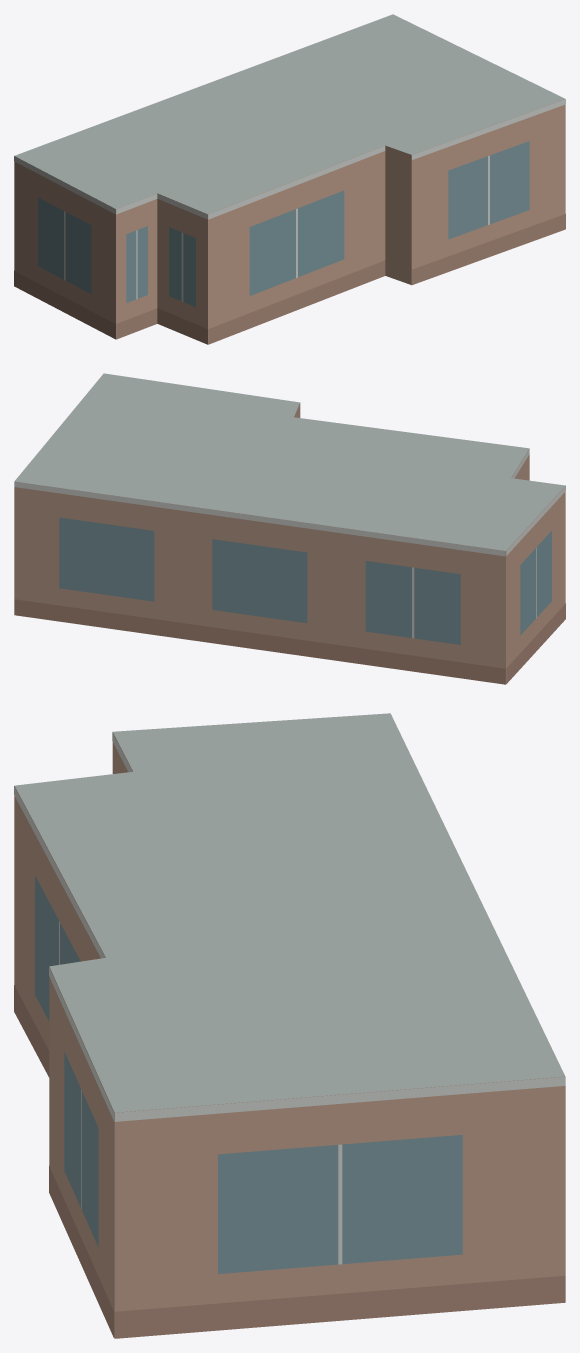
Rendered from survey-upis-32723737.glb.
3 views of the same model, one above another, from view 1: azimuth 30°, elevation 25°; view 2: azimuth 150°, elevation 25°; view 3: azimuth 270°, elevation 25° (orthographic). The views are drawn at different scales.
Parts seen in each view (by area): view 1: survey-upis-32723737.tmp; view 2: survey-upis-32723737.tmp; view 3: survey-upis-32723737.tmp.
Part boxes in pixels (bbox=[...]): survey-upis-32723737.tmp: bbox=[14, 14, 565, 344]; survey-upis-32723737.tmp: bbox=[14, 373, 565, 684]; survey-upis-32723737.tmp: bbox=[14, 713, 565, 1338].
Bounding box in the file's own units: 11.57 × 3.05 × 6.75.
